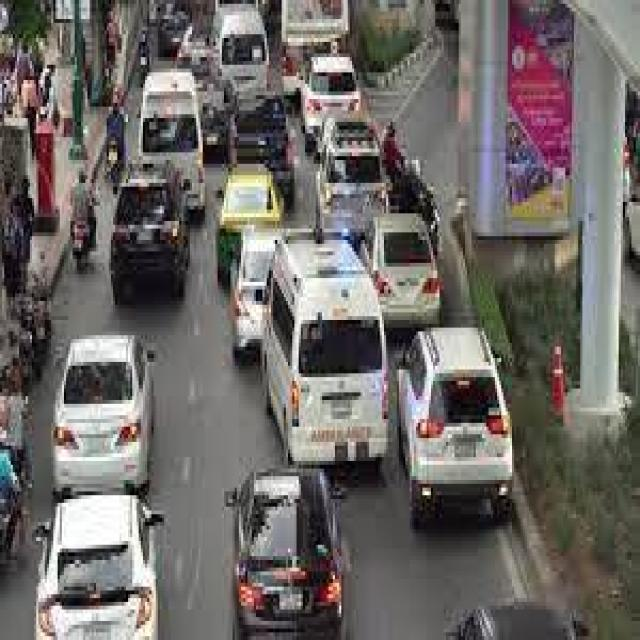ambulance: (255, 224, 396, 462)
